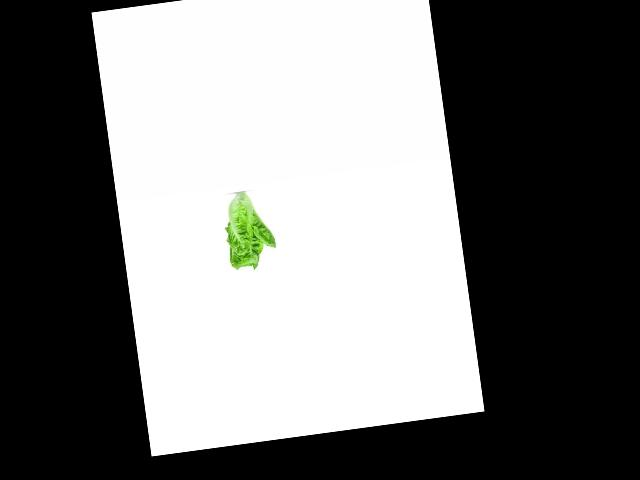lettuce: (217, 191, 279, 273)
